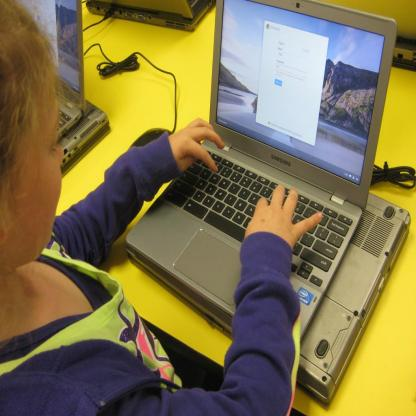board: (126, 0, 396, 346), (18, 0, 86, 142)
